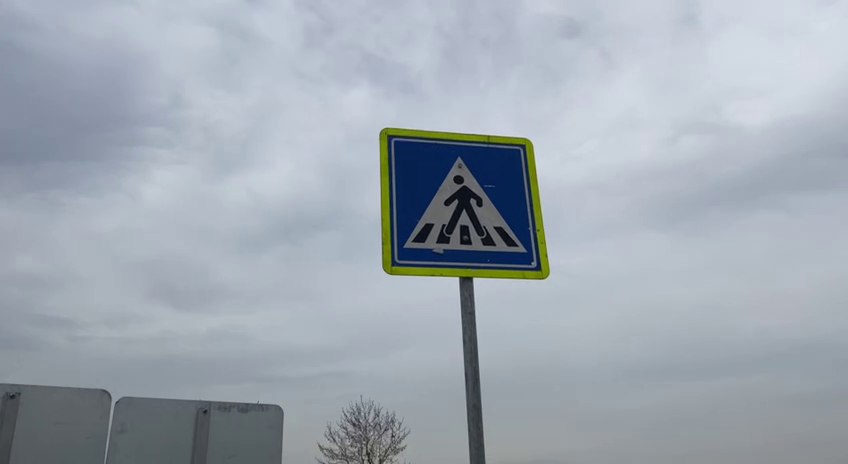pedestrianCrossing: (377, 128, 552, 282)
